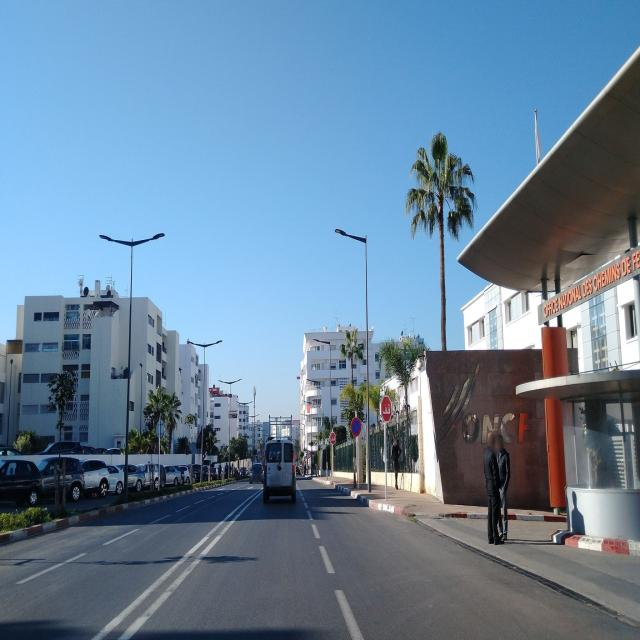forb_stopping: (351, 417, 362, 438)
